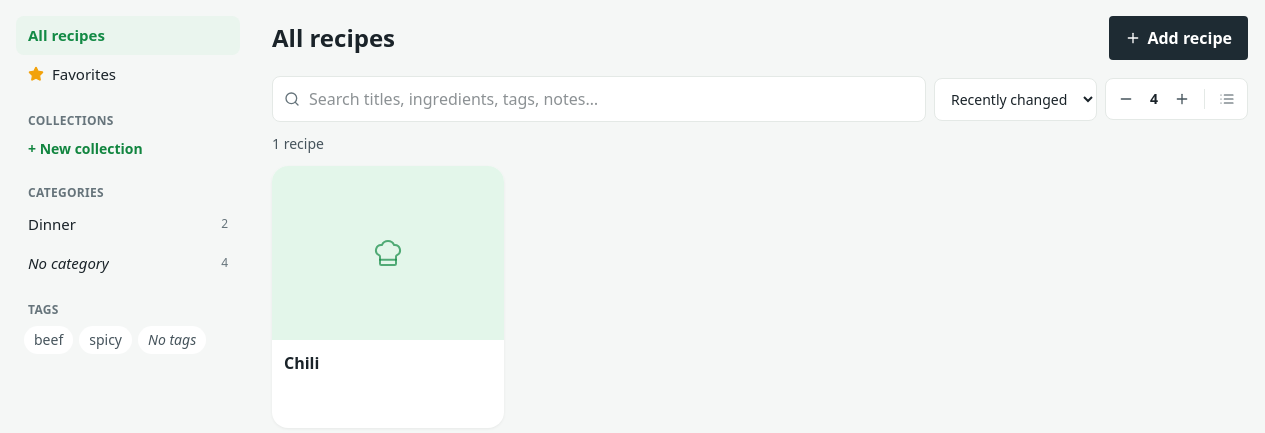
Test: a new collection from the sidebar › + New collection asks for a name right there; Enter adds it and opens it
The width and height of the screenshot is (1265, 433).
Click the button "+ New collection": (128, 149) [16,133,240,165]
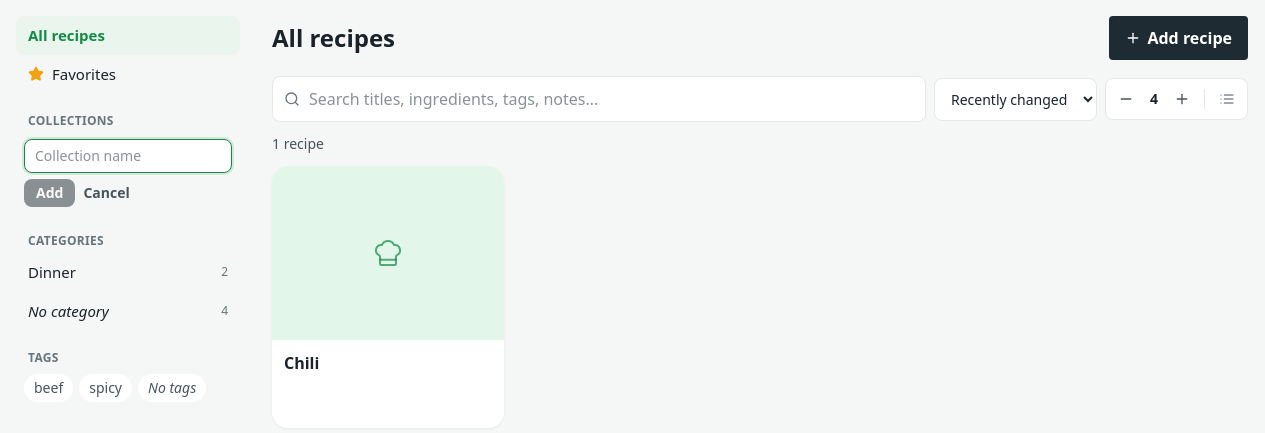
In the field named "New collection name": (128, 156) [24,139,232,173], type "Weeknight wins"
Then press Enter
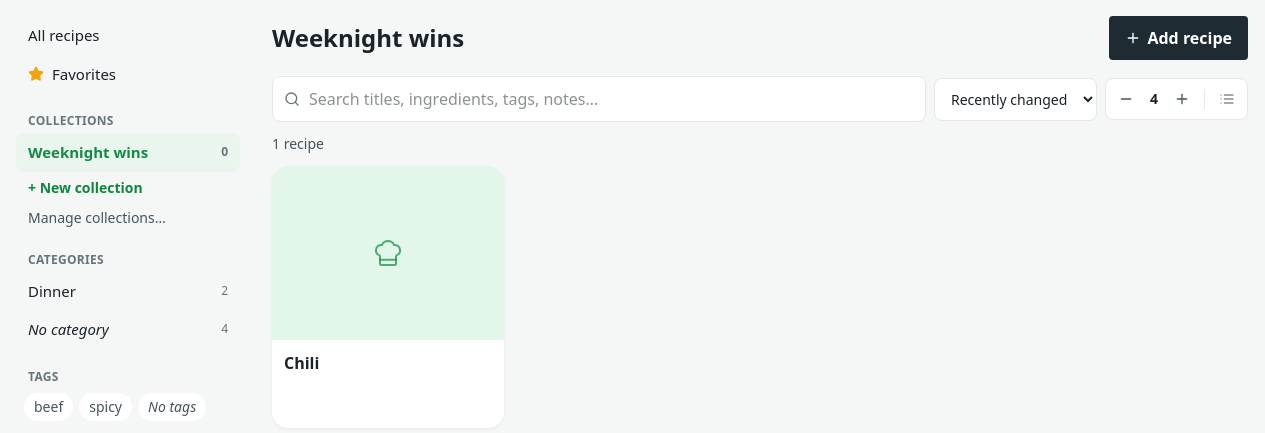
Now the button "Weeknight wins 0" is shown, box [16,133,240,172]
